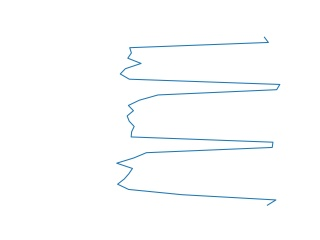majorRiverChannelBar: (113, 37, 286, 210)
